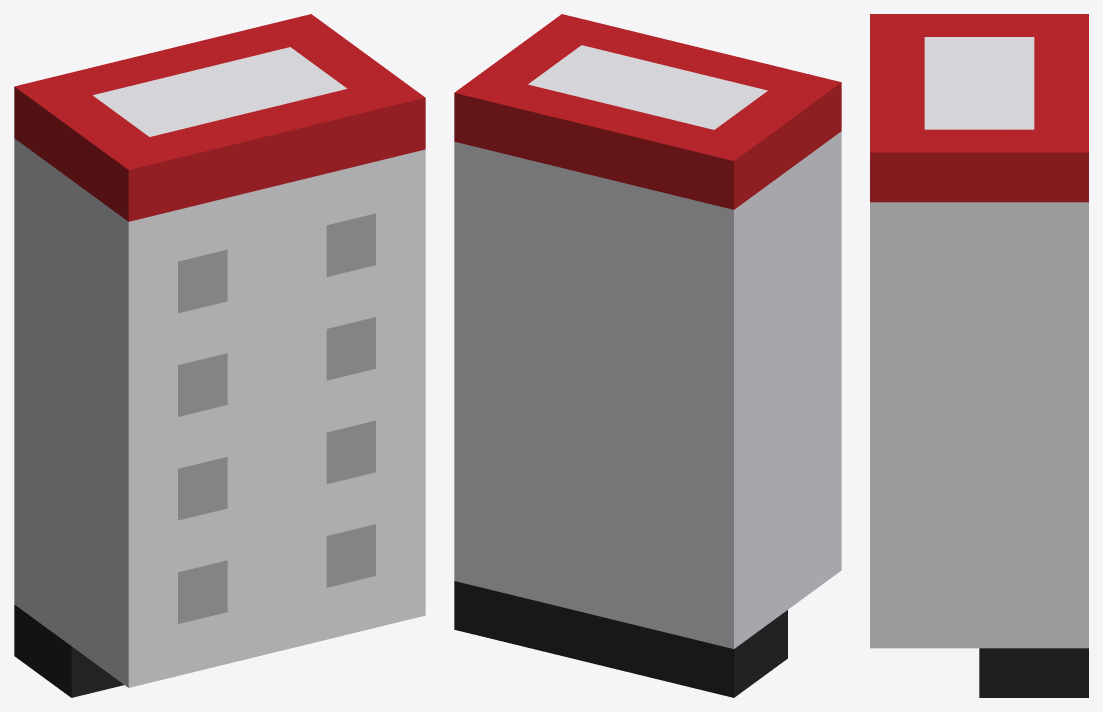
The model's file is torso.obj.
The picture shows the model from 3 angles, left to right: view 1: azimuth 30°, elevation 25°; view 2: azimuth 150°, elevation 25°; view 3: azimuth 270°, elevation 25°; orthographic projection. The views are drawn at different scales.
Size of the model in its own units: 0.6 by 1.1 by 0.4.
1 material, 1 textured.
